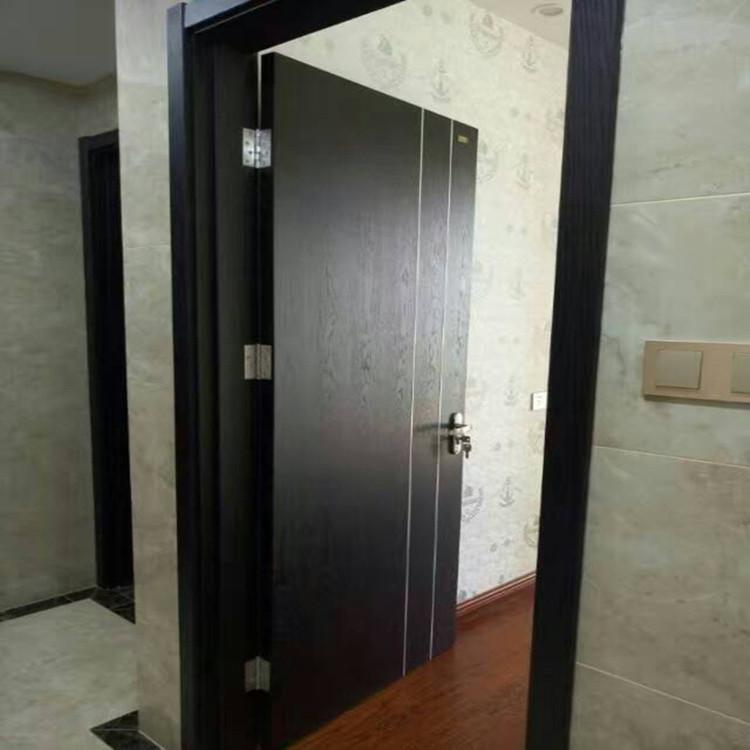door: (248, 51, 495, 722)
